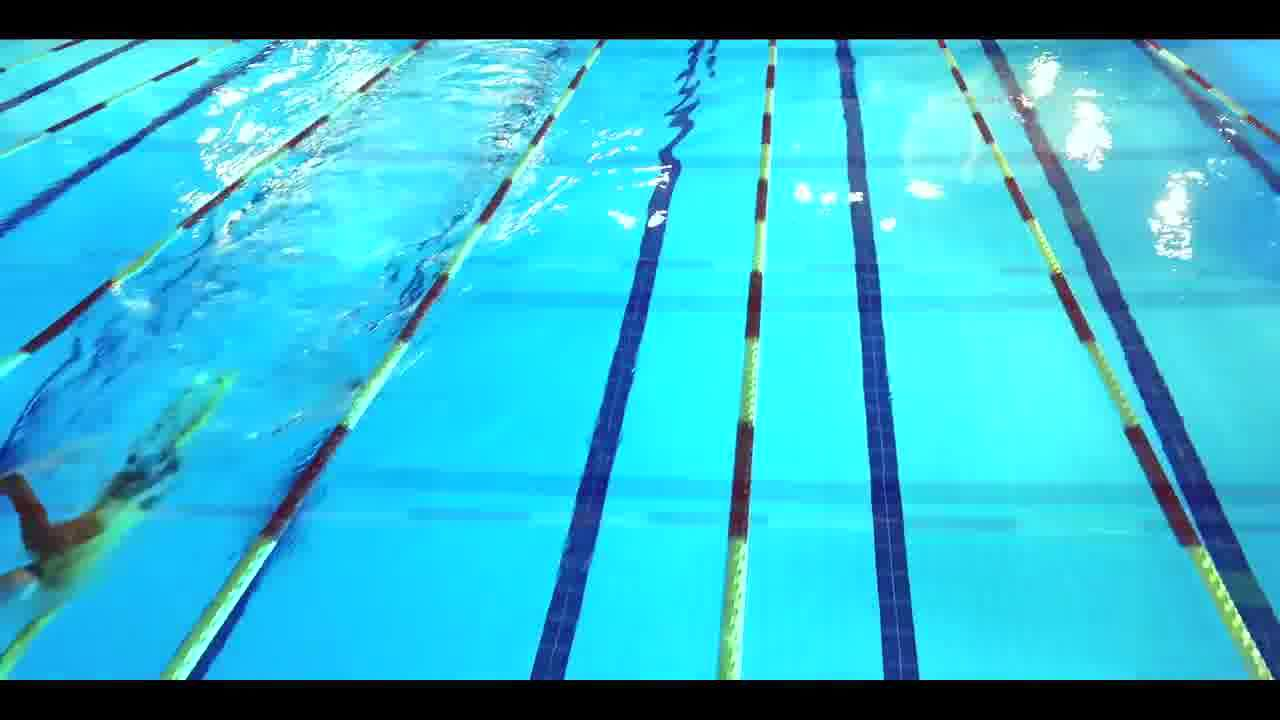human: (0, 359, 309, 623)
